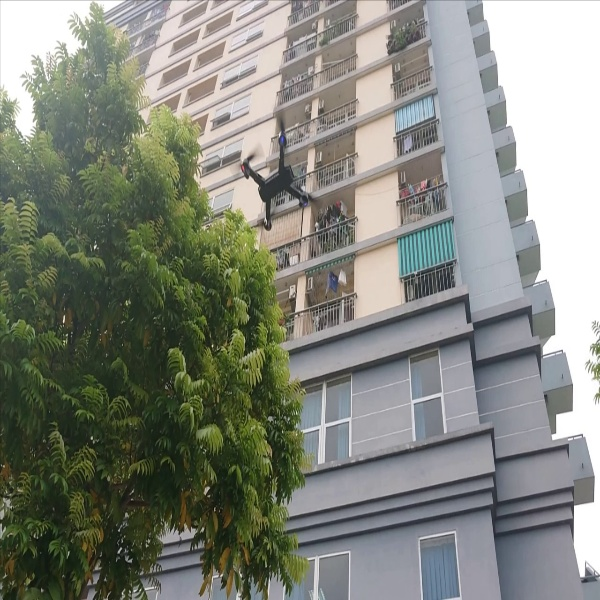drone: (233, 110, 323, 236)
